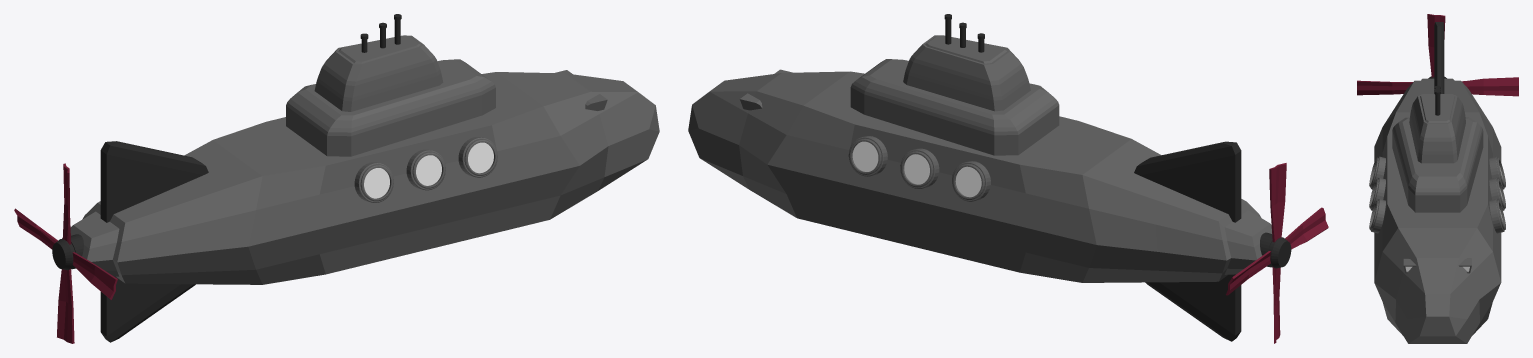
The model's file is Submarine.glb.
3 views of the same model, side by side, from view 1: azimuth 30°, elevation 25°; view 2: azimuth 150°, elevation 25°; view 3: azimuth 270°, elevation 25° (orthographic). The views are drawn at different scales.
Visible parts, largest first — view 1: Cube, Cube.006, Cube.001, Cube.008, Cube.007, propeller2, propeller1, propeller4, Cylinder.008, Cylinder.007, Cylinder.005, boat_window5 (+4 smaller); view 2: Cube, Cube.006, Cube.001, Cube.008, Cube.007, propeller0, propeller1, propeller4, Cylinder.003, Cylinder.006, Cylinder.004, boat_window2 (+4 smaller); view 3: Cube, Cube.006, Cube.001, propeller3, Cube.008, propeller1, propeller0, Cylinder.006, Cylinder.008, Cylinder.004, Cylinder.005, Cylinder.003 (+2 smaller).
Boxes of the visible parts, box(x1,y1,x2,y2) form: Cube: box(62, 72, 659, 284); Cube.006: box(286, 59, 495, 156); Cube.001: box(314, 35, 443, 111); Cube.008: box(100, 141, 208, 222); Cube.007: box(100, 276, 195, 342); propeller2: box(57, 268, 74, 343); propeller1: box(72, 252, 117, 299); propeller4: box(52, 234, 83, 270); Cylinder.008: box(458, 137, 497, 177); Cylinder.007: box(406, 149, 445, 190); Cylinder.005: box(354, 162, 393, 202); boat_window5: box(468, 142, 493, 173); Cube: box(688, 71, 1271, 282); Cube.006: box(850, 59, 1059, 155); Cube.001: box(903, 35, 1030, 111); Cube.008: box(1134, 141, 1241, 222); Cube.007: box(1145, 274, 1241, 341); propeller0: box(1269, 163, 1286, 242); propeller1: box(1285, 207, 1328, 249); propeller4: box(1260, 232, 1291, 268); Cylinder.003: box(900, 148, 939, 188); Cylinder.006: box(848, 136, 887, 176); Cylinder.004: box(952, 161, 990, 201); boat_window2: box(955, 166, 981, 197); Cube: box(1374, 78, 1501, 343); Cube.006: box(1392, 117, 1483, 212); Cube.001: box(1409, 94, 1465, 163); propeller3: box(1462, 77, 1518, 96); Cube.008: box(1434, 22, 1444, 93); propeller1: box(1357, 80, 1412, 95); propeller0: box(1427, 14, 1445, 77); Cylinder.006: box(1489, 199, 1505, 233); Cylinder.008: box(1369, 199, 1385, 233); Cylinder.004: box(1489, 156, 1505, 189); Cylinder.005: box(1369, 156, 1385, 189); Cylinder.003: box(1489, 178, 1505, 210).
Bounding box in the file's own units: 11.36 × 4.7 × 3.21.
